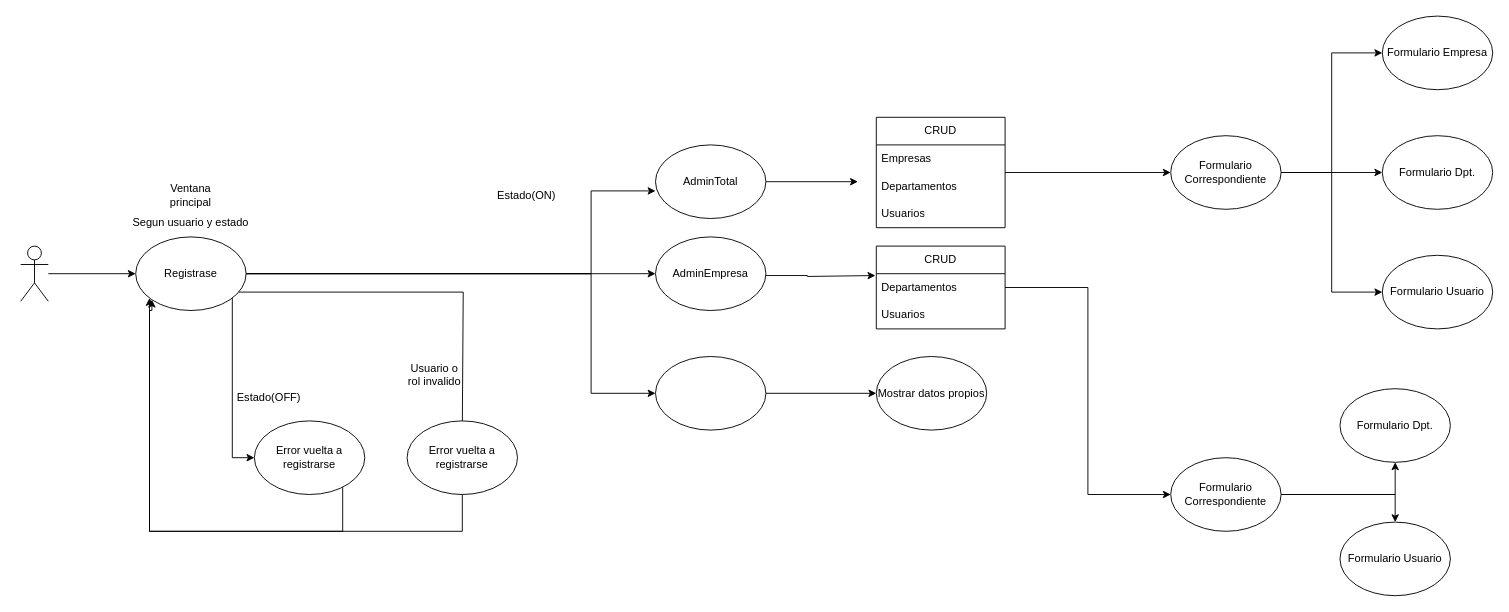
The diagram is 1509 pixels wide and 612 high, and some of its shapes have lost their labels. The shapes that lost their labels are listed below. From the top down, each one's centre as x and y in pixels, then its label:
At point (34, 273): "Usuario".
At point (710, 393): "Estandar".
